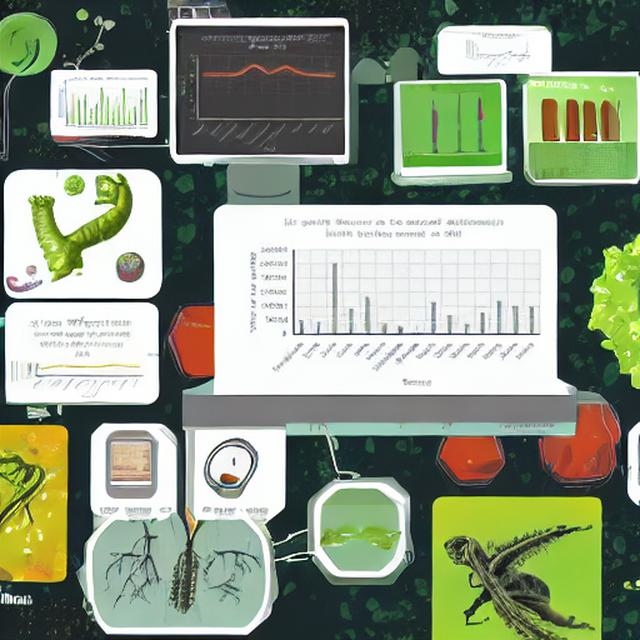Graph: (241, 211, 545, 392), (178, 33, 345, 155), (18, 328, 145, 400), (53, 75, 151, 133), (465, 32, 532, 71)
